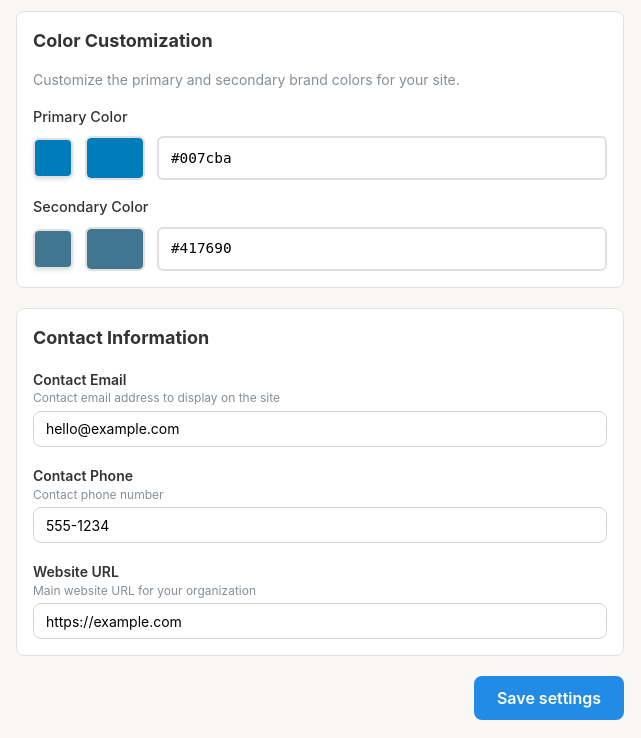
Test: SiteSettingsPage › disables the save button while a save is in flight
(page scrolled)
Click the button "Save settings" at (549, 698), box [474,676,624,720]
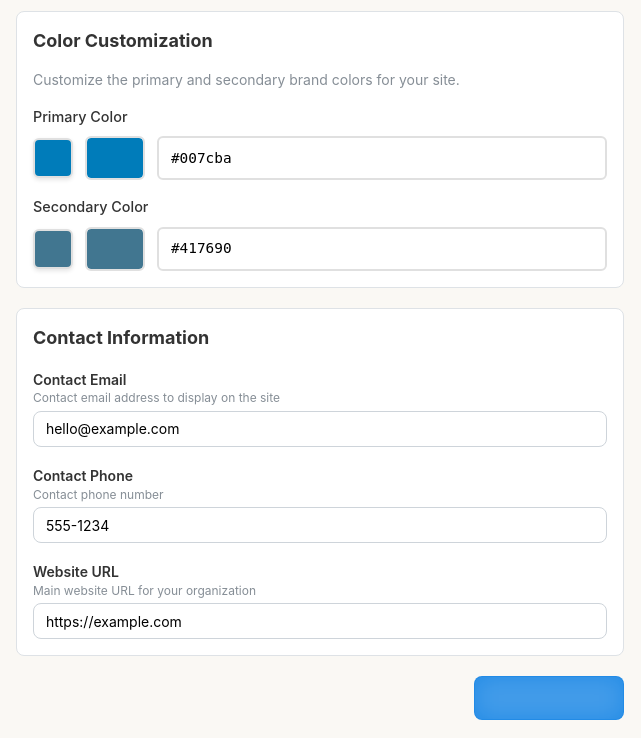
Now the button named "save settings" is disabled
Note: A second click on the disabled button cannot trigger another request.
Click the button named "save settings" at (549, 698), box [474,676,624,720]
(page scrolled)
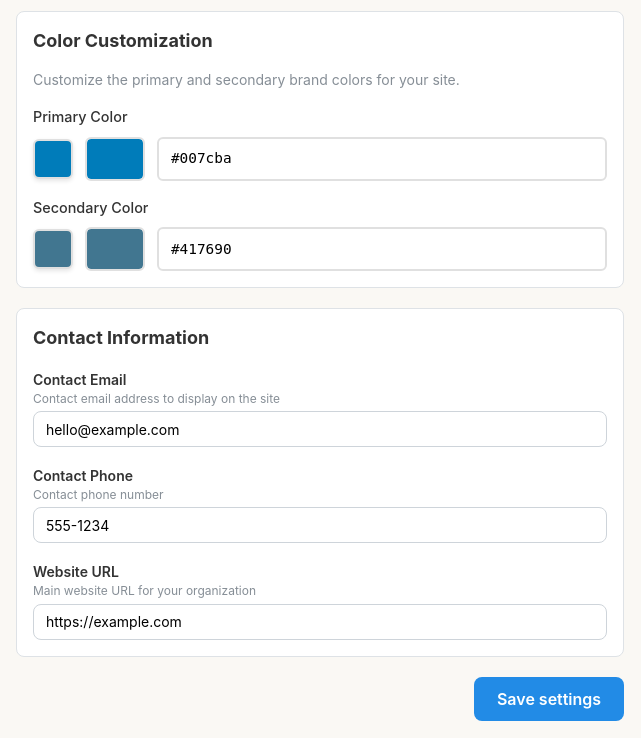
Now the button "Save settings" is enabled, box [474,677,624,721]
